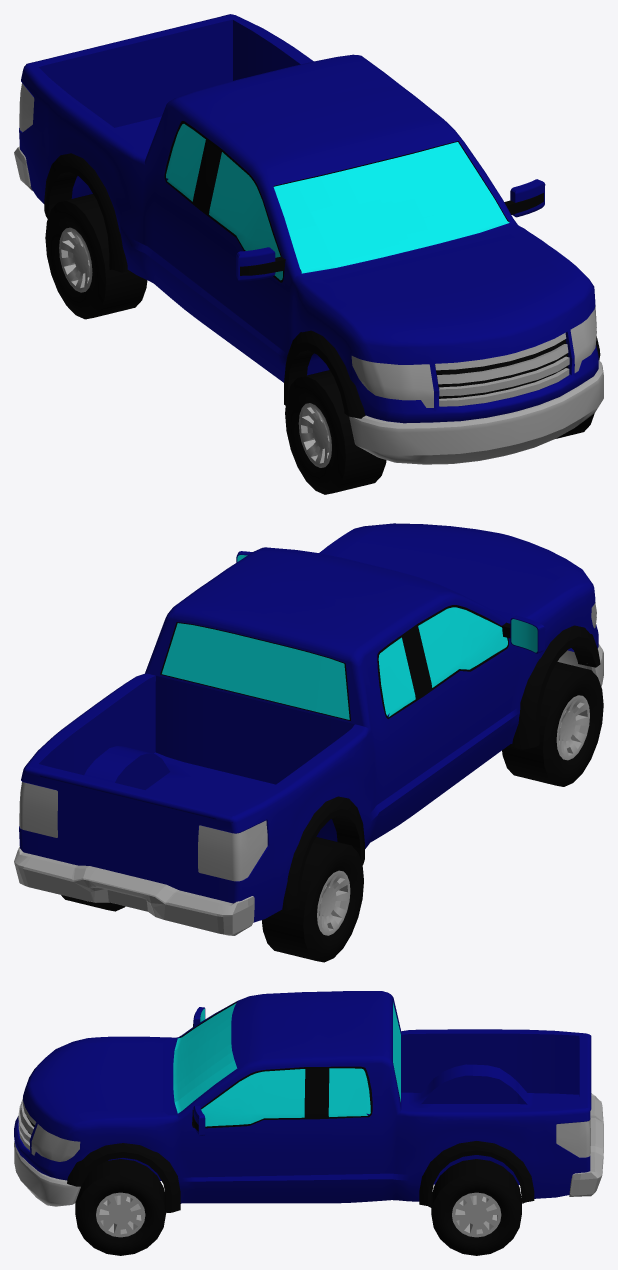
File: Ford Raptor.fbx
The picture shows the model from 3 angles, top to bottom: view 1: azimuth 30°, elevation 25°; view 2: azimuth 150°, elevation 25°; view 3: azimuth 270°, elevation 25°; orthographic projection. The views are drawn at different scales.
Parts seen in each view (by area): view 1: Ford_Raptor; view 2: Ford_Raptor; view 3: Ford_Raptor.
Part boxes in pixels (x1,y1,x2,y2): Ford_Raptor: (14,14,603,494); Ford_Raptor: (14,523,603,962); Ford_Raptor: (14,991,603,1255).
Size of the model in its own units: 8.36 by 6.68 by 18.74.
